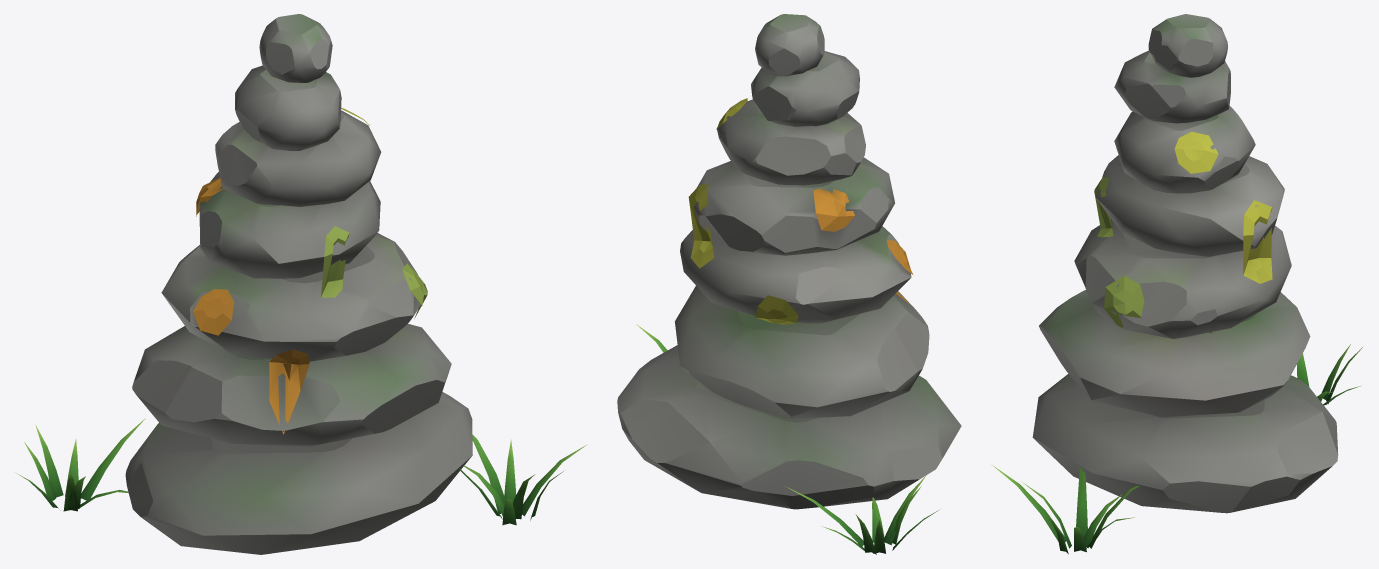
Rendered from stone_cairn.glb.
3 renders of one model, left to right at view 1: azimuth 30°, elevation 25°; view 2: azimuth 150°, elevation 25°; view 3: azimuth 270°, elevation 25°, orthographic. The views are drawn at different scales.
Visible parts, largest first — view 1: stone_cairn; view 2: stone_cairn; view 3: stone_cairn.
Part boxes in pixels (x1,y1,x2,y2): stone_cairn: (16,14,587,554); stone_cairn: (617,14,961,554); stone_cairn: (991,14,1362,554).
Bounding box in the file's own units: 1.17 × 1.2 × 0.8981.
